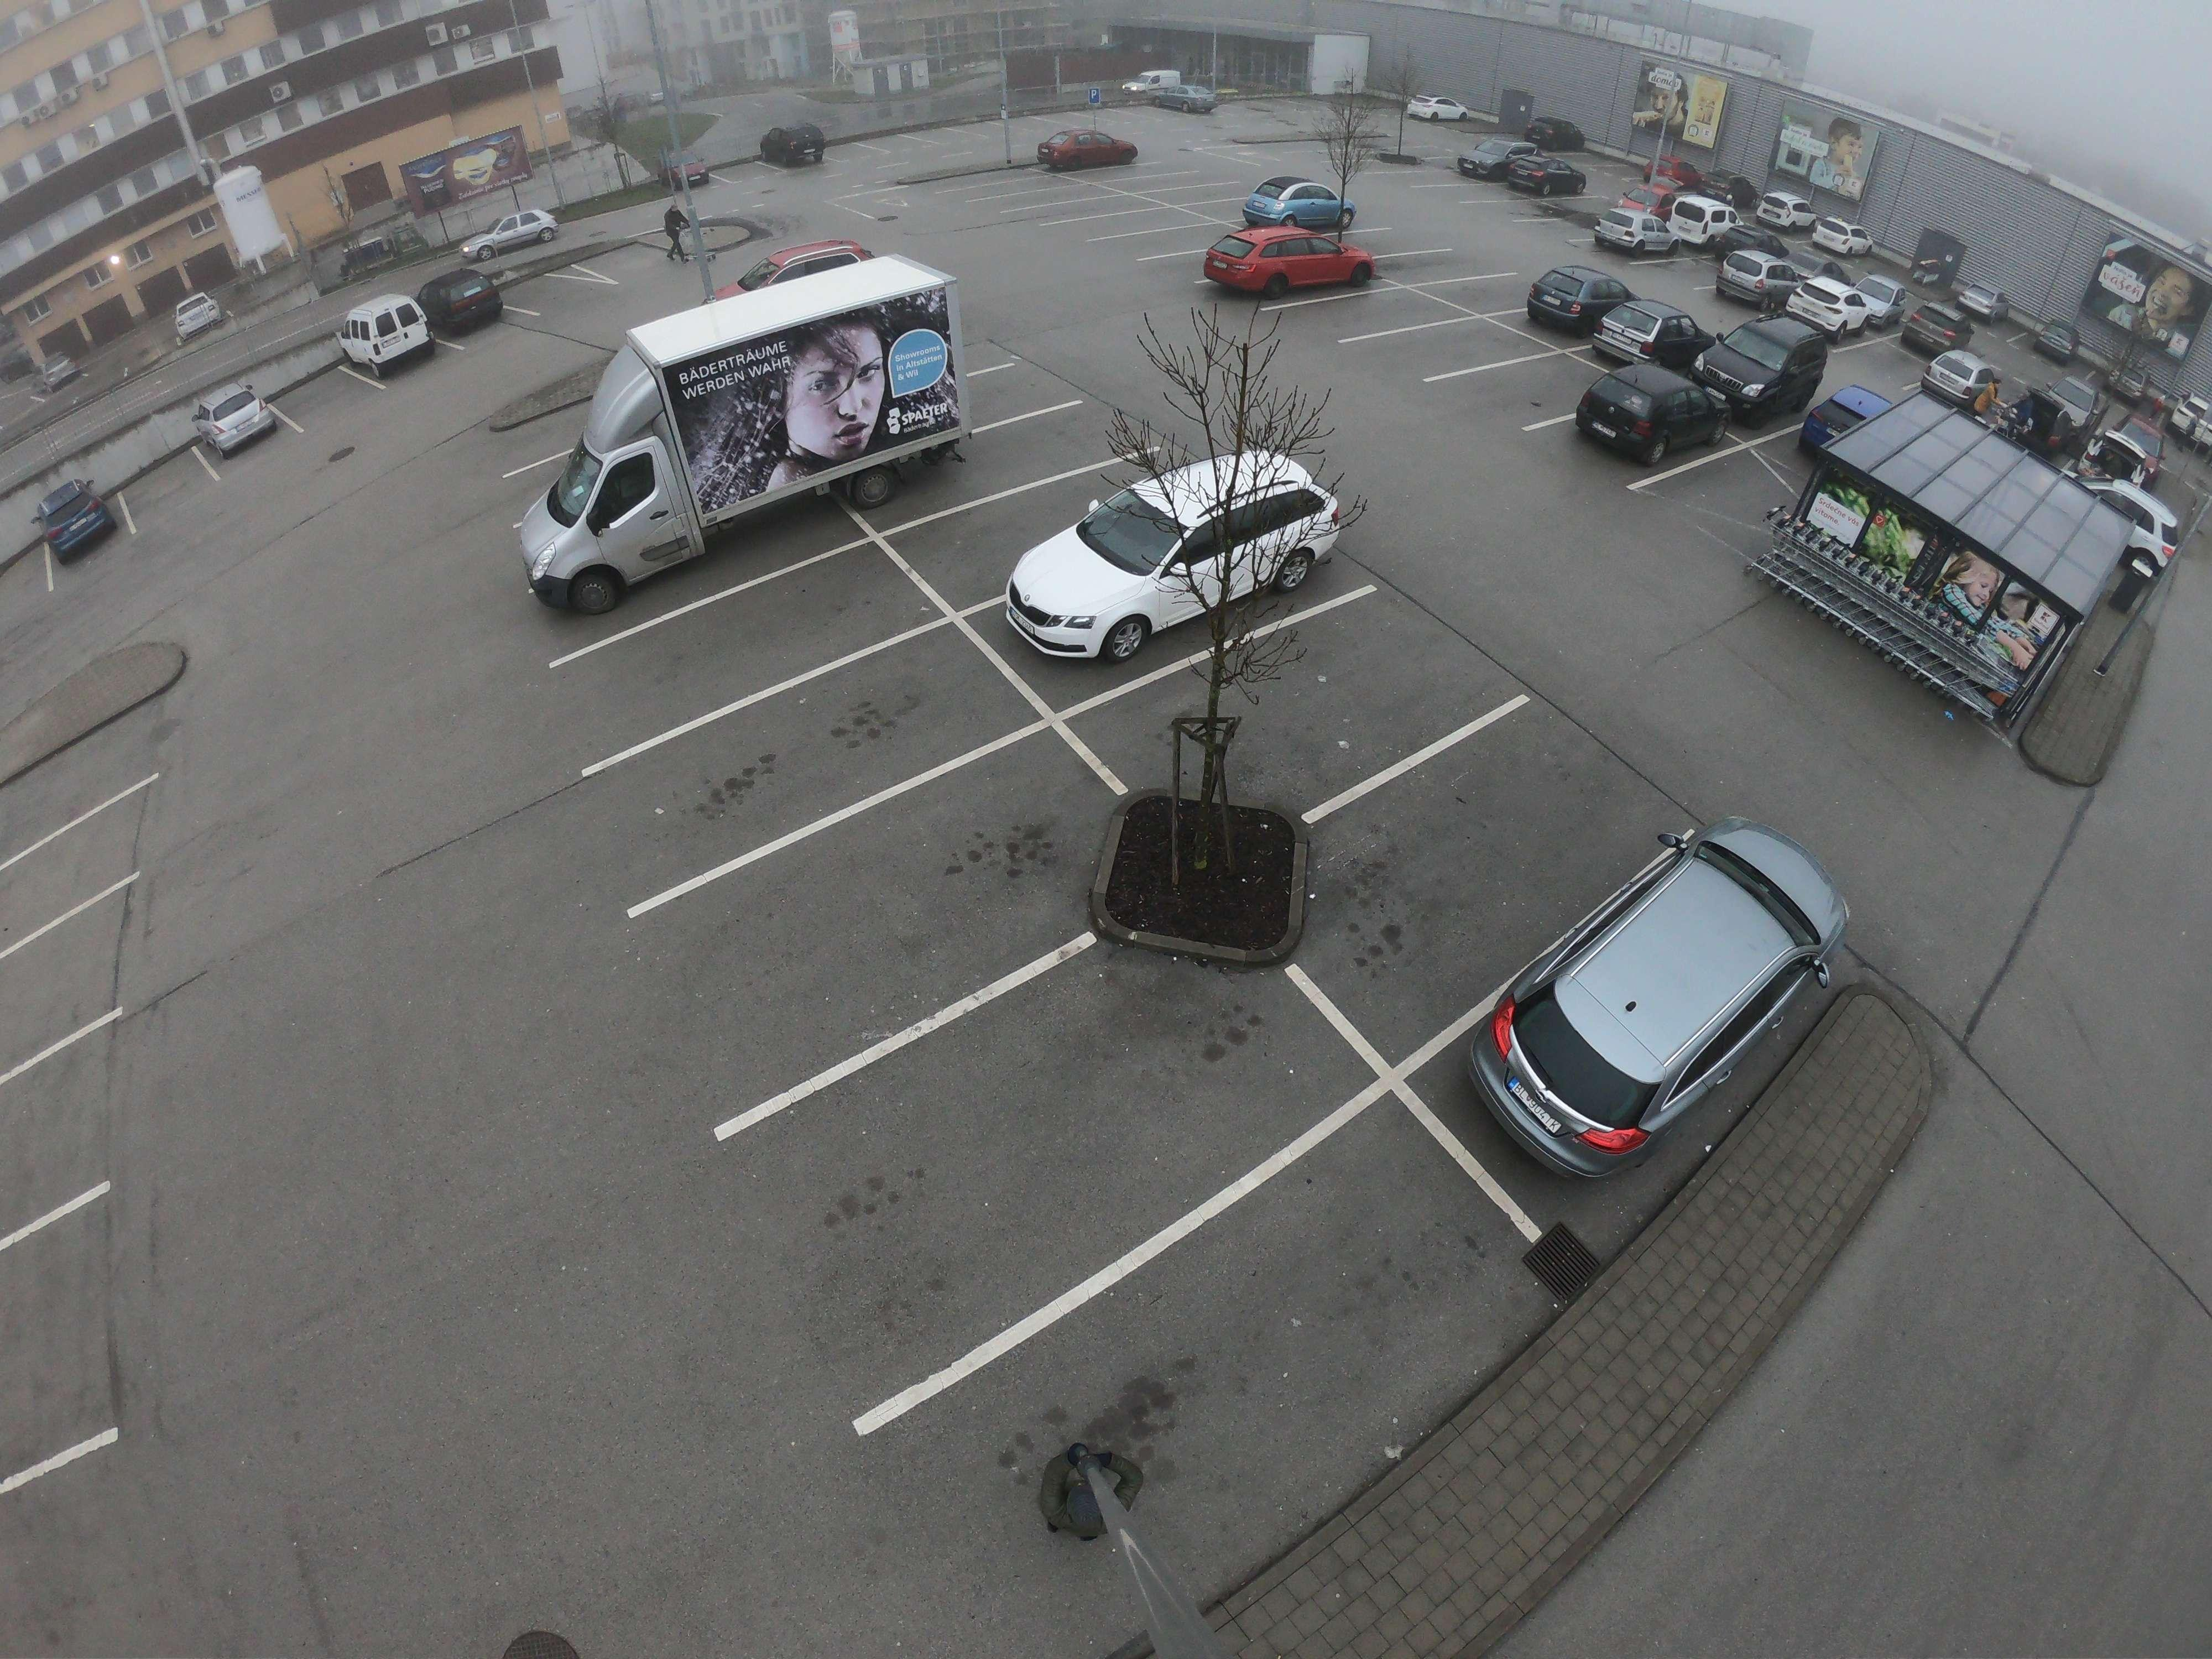empty: (1458, 823, 1827, 1159), (1005, 455, 1336, 660), (1571, 369, 1728, 474), (691, 237, 914, 308), (1197, 223, 1372, 310), (1658, 314, 1811, 410), (347, 291, 455, 378), (1510, 267, 1615, 340), (192, 382, 284, 462), (1784, 274, 1895, 340), (1916, 340, 2012, 410), (1710, 244, 1810, 310), (1029, 122, 1141, 179), (1588, 202, 1689, 261), (1249, 174, 1353, 227), (1500, 150, 1587, 200)
occupied: (1125, 1270, 1400, 1466), (914, 1054, 1167, 1230), (806, 833, 1012, 978), (1353, 809, 1555, 946), (1256, 655, 1432, 753), (745, 701, 904, 796), (927, 509, 1031, 589), (712, 596, 829, 667), (1672, 457, 1789, 528), (1317, 270, 1413, 331), (941, 443, 1047, 497), (141, 462, 214, 523), (294, 380, 369, 427), (1501, 369, 1575, 416), (1420, 329, 1494, 364), (1148, 225, 1204, 265)
